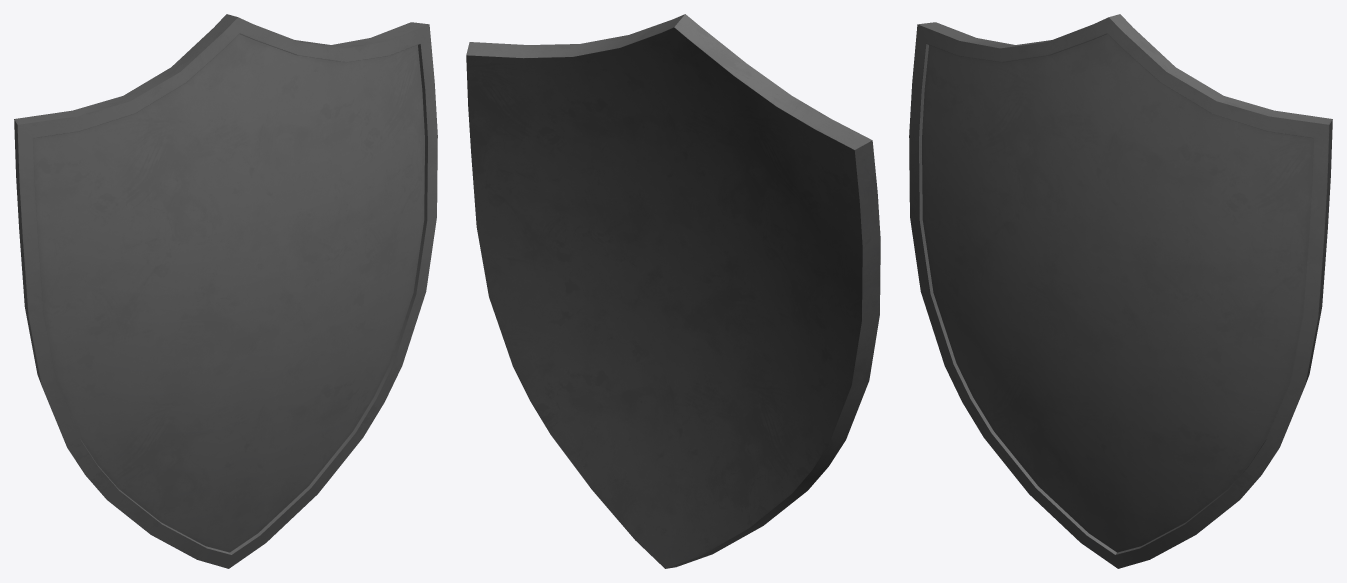
The model's file is Shield.FBX.
3 views of the same model, side by side, from view 1: azimuth 30°, elevation 25°; view 2: azimuth 150°, elevation 25°; view 3: azimuth 330°, elevation 25° (orthographic). The views are drawn at different scales.
Parts seen in each view (by area): view 1: Shield; view 2: Shield; view 3: Shield.
Part boxes in pixels (<box>): Shield: <box>14,14,437,568</box>; Shield: <box>466,14,880,568</box>; Shield: <box>909,14,1332,568</box>.
Bounding box in the file's own units: 72.79 × 93.57 × 12.38.
